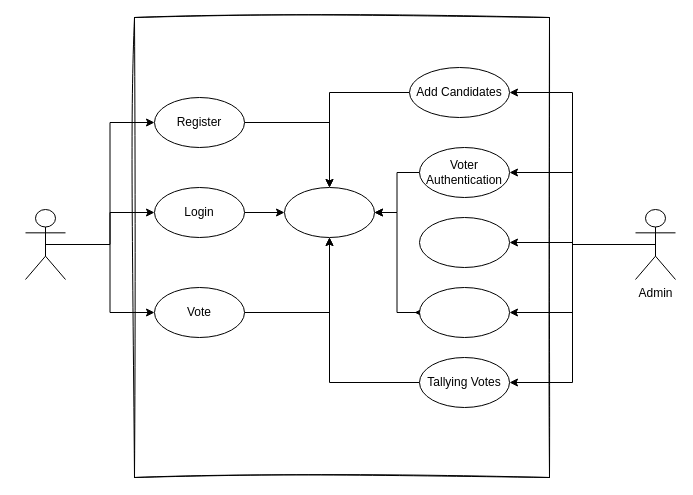
Some shapes in this 693 by 495 pixel diagram are drawn without their labels. Each missing label, with the centre of its shape:
Change Phase: the point at 464,312
ETH Transaction: the point at 329,212
Monitoring: the point at 464,242
Voter/User: the point at 45,244
